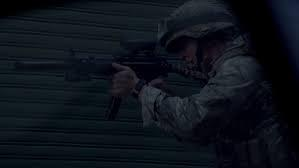rifle: (13, 38, 197, 123)
